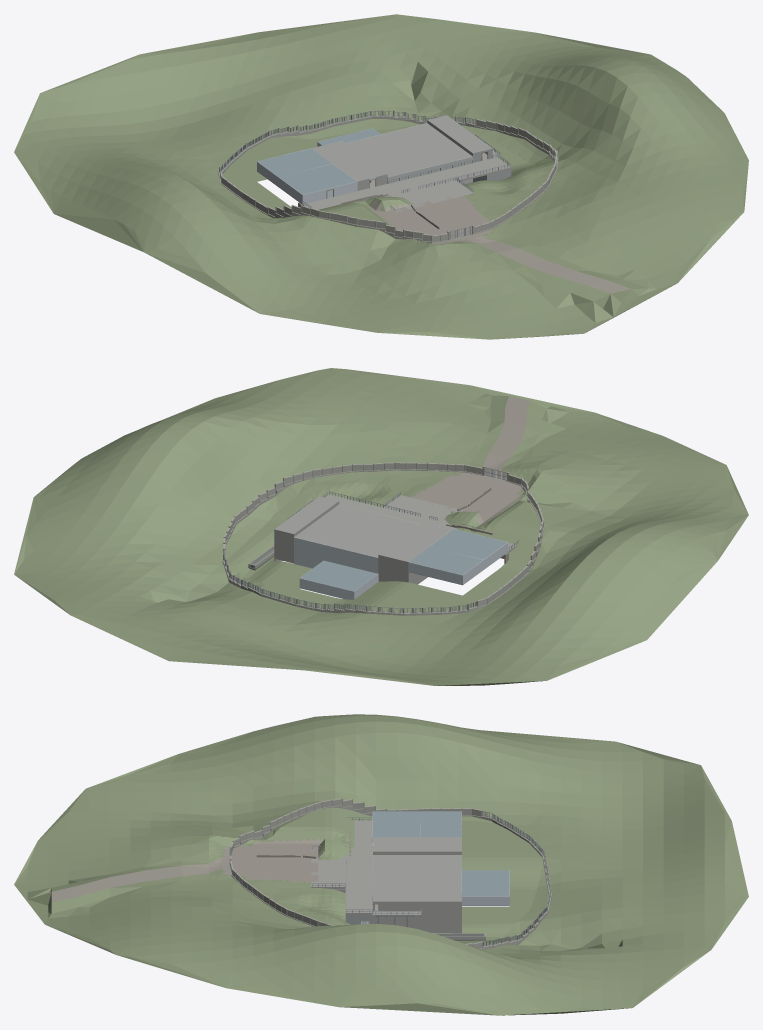
The model's file is dam-with-refuges.glb.
3 views of the same model, one above another, from view 1: azimuth 30°, elevation 25°; view 2: azimuth 150°, elevation 25°; view 3: azimuth 270°, elevation 25° (orthographic). The views are drawn at different scales.
Parts seen in each view (by area): view 1: Blackwater joined valley terrain, Blackwater saved ground with road surface, WLD-09 turbine enclosed roof region0, WLD-09 complete structural crest deck region0, WLD-09 west hall enclosed roof region0, Ceiling cap control, Ceiling cap office, Blackwater tied boundary piers, WLD-09 complete bridge arrival forecourt region0, WLD-09 east hall enclosed roof region0; view 2: Blackwater joined valley terrain, Blackwater saved ground with road surface, WLD-09 turbine enclosed roof region0, WLD-09 west hall enclosed roof region0, Ceiling cap plant, Ceiling cap control, Blackwater tied boundary piers, Flat route shell Wall turbine N.001, Ceiling cap office, WLD-09 complete bridge arrival forecourt region0, WLD-09 east hall enclosed roof region0, WLD-09 complete structural crest deck region0 (+4 smaller); view 3: Blackwater joined valley terrain, Blackwater saved ground with road surface, WLD-09 turbine enclosed roof region0, WLD-09 complete structural crest deck region0, WLD-09 hall E pier0 region0, WLD-09 west hall enclosed roof region0, Ceiling cap control, Ceiling cap plant, Ceiling cap office, WLD-09 east hall enclosed roof region0, WLD-09 complete bridge arrival forecourt region0, Blackwater tied boundary piers.
Part boxes in pixels (x1=…): Blackwater joined valley terrain: x1=14, y1=14, x2=748, y2=339; Blackwater saved ground with road surface: x1=212, y1=127, x2=543, y2=245; WLD-09 turbine enclosed roof region0: x1=345, y1=123, x2=472, y2=176; WLD-09 complete structural crest deck region0: x1=302, y1=157, x2=511, y2=209; WLD-09 west hall enclosed roof region0: x1=312, y1=141, x2=387, y2=182; Ceiling cap control: x1=278, y1=163, x2=356, y2=194; Ceiling cap office: x1=257, y1=148, x2=332, y2=176; Blackwater tied boundary piers: x1=219, y1=110, x2=557, y2=243; WLD-09 complete bridge arrival forecourt region0: x1=392, y1=180, x2=473, y2=212; WLD-09 east hall enclosed roof region0: x1=427, y1=115, x2=492, y2=153; Blackwater joined valley terrain: x1=14, y1=368, x2=748, y2=685; Blackwater saved ground with road surface: x1=228, y1=462, x2=548, y2=622; WLD-09 turbine enclosed roof region0: x1=295, y1=504, x2=419, y2=557; WLD-09 west hall enclosed roof region0: x1=379, y1=521, x2=452, y2=562; Ceiling cap plant: x1=300, y1=560, x2=377, y2=591; Ceiling cap control: x1=429, y1=529, x2=506, y2=559; Blackwater tied boundary piers: x1=222, y1=462, x2=544, y2=615; Flat route shell Wall turbine N.001: x1=294, y1=537, x2=348, y2=567; Ceiling cap office: x1=409, y1=547, x2=482, y2=575; WLD-09 complete bridge arrival forecourt region0: x1=384, y1=495, x2=468, y2=523; WLD-09 east hall enclosed roof region0: x1=274, y1=497, x2=339, y2=534; WLD-09 complete structural crest deck region0: x1=325, y1=494, x2=516, y2=552; Blackwater joined valley terrain: x1=14, y1=714, x2=748, y2=1015; Blackwater saved ground with road surface: x1=209, y1=807, x2=542, y2=945; WLD-09 turbine enclosed roof region0: x1=373, y1=855, x2=461, y2=892; WLD-09 complete structural crest deck region0: x1=345, y1=820, x2=372, y2=914; WLD-09 hall E pier0 region0: x1=378, y1=901, x2=461, y2=929; WLD-09 west hall enclosed roof region0: x1=373, y1=837, x2=461, y2=852; Ceiling cap control: x1=373, y1=811, x2=420, y2=837; Ceiling cap plant: x1=462, y1=870, x2=509, y2=896; Ceiling cap office: x1=420, y1=811, x2=461, y2=836; WLD-09 east hall enclosed roof region0: x1=373, y1=892, x2=461, y2=902; WLD-09 complete bridge arrival forecourt region0: x1=311, y1=849, x2=345, y2=888; Blackwater tied boundary piers: x1=230, y1=798, x2=551, y2=947.
Size of the model in its own units: 200 by 25.78 by 215.
Materials: 59 (33 with a texture image).
